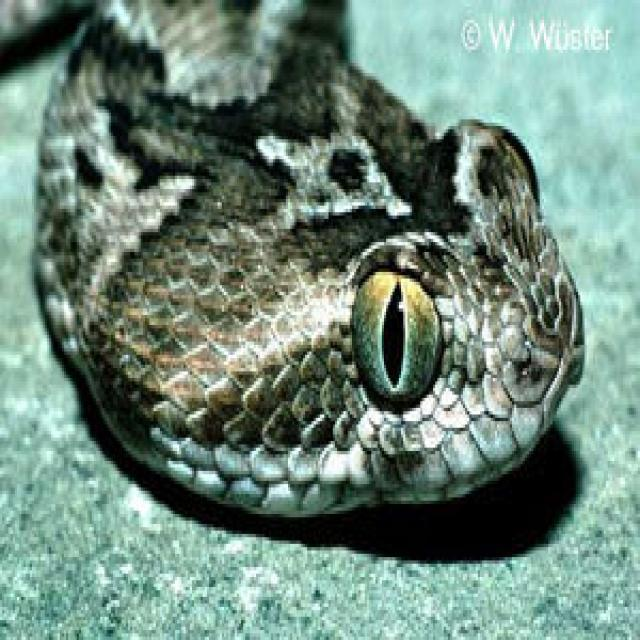Snake: (29, 0, 584, 524)
